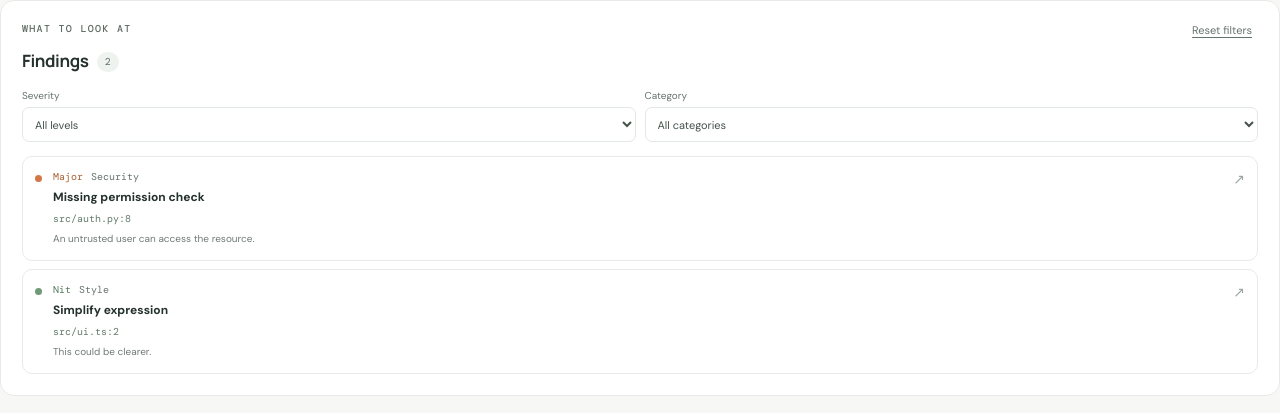
Test: filters findings by category
The width and height of the screenshot is (1280, 413).
Select "Security" in the dropdown named "Filter by category" at (951, 124), box x1=644 y1=107 x2=1258 y2=142
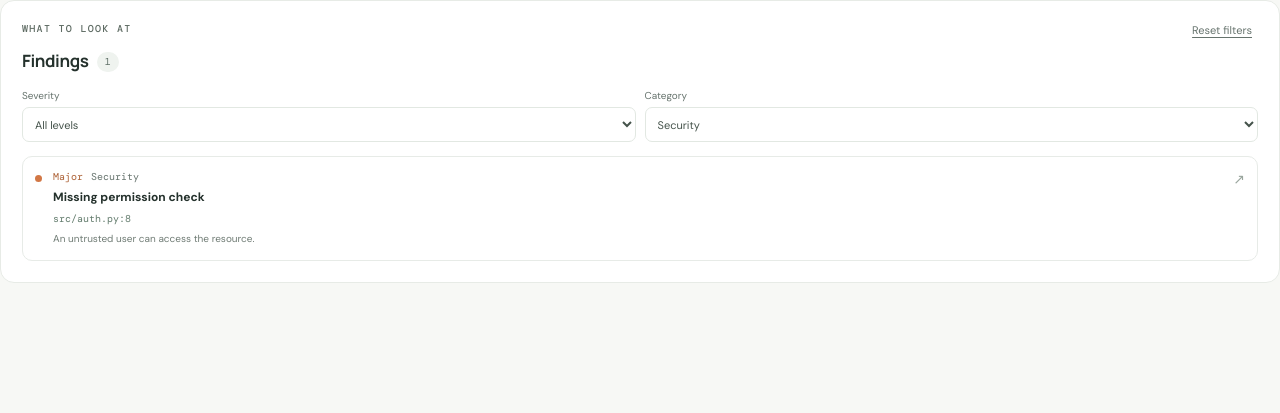
Expected: the text "Missing permission check" is shown, x1=53 y1=189 x2=205 y2=205
Expected: the button "Simplify expression" is gone
